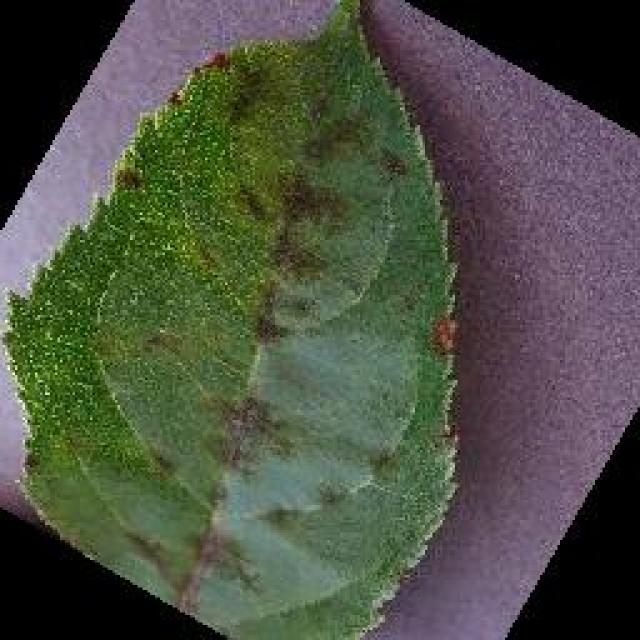apple scab disease: (0, 0, 465, 638)
